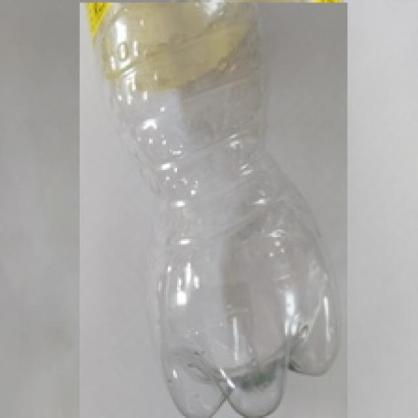bottle: (79, 2, 347, 418)
